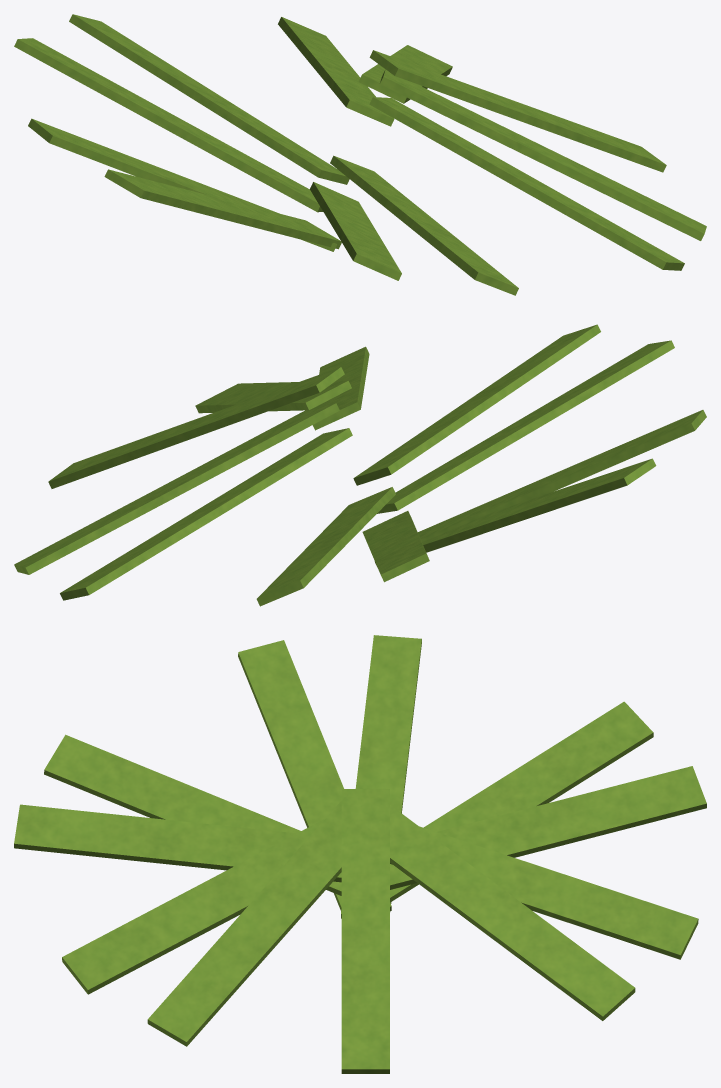
The model's file is fern.glb.
The picture shows the model from 3 angles, top to bottom: view 1: azimuth 30°, elevation 25°; view 2: azimuth 150°, elevation 25°; view 3: azimuth 270°, elevation 25°; orthographic projection. The views are drawn at different scales.
Parts seen in each view (by area): view 1: fern; view 2: fern; view 3: fern.
Boxes of the visible parts, x1=… form: fern: x1=14, y1=14, x2=706, y2=295; fern: x1=14, y1=324, x2=706, y2=606; fern: x1=14, y1=635, x2=706, y2=1073.
Size of the model in its own units: 1.65 by 0.4459 by 1.72.
Materials: 1 (1 with a texture image).
